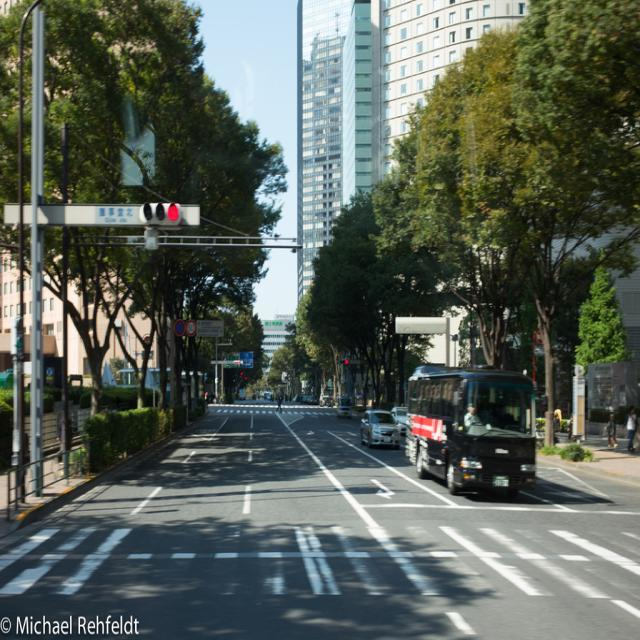traffic light: (136, 203, 189, 222)
